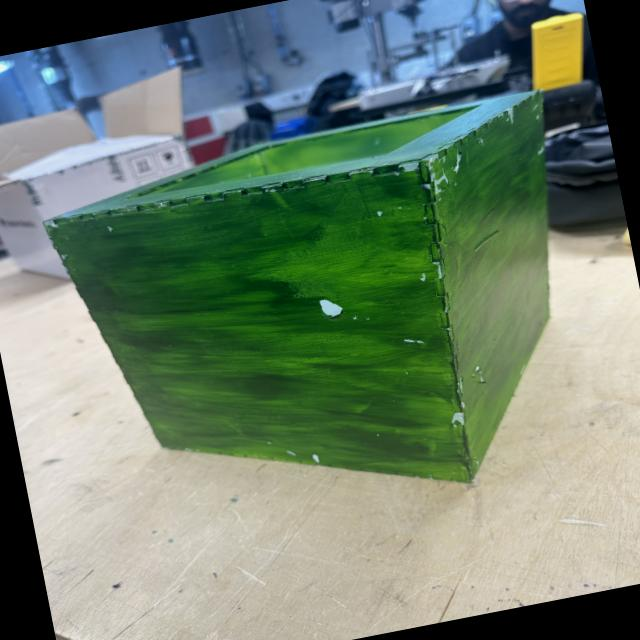green_bin: (34, 88, 612, 553)
